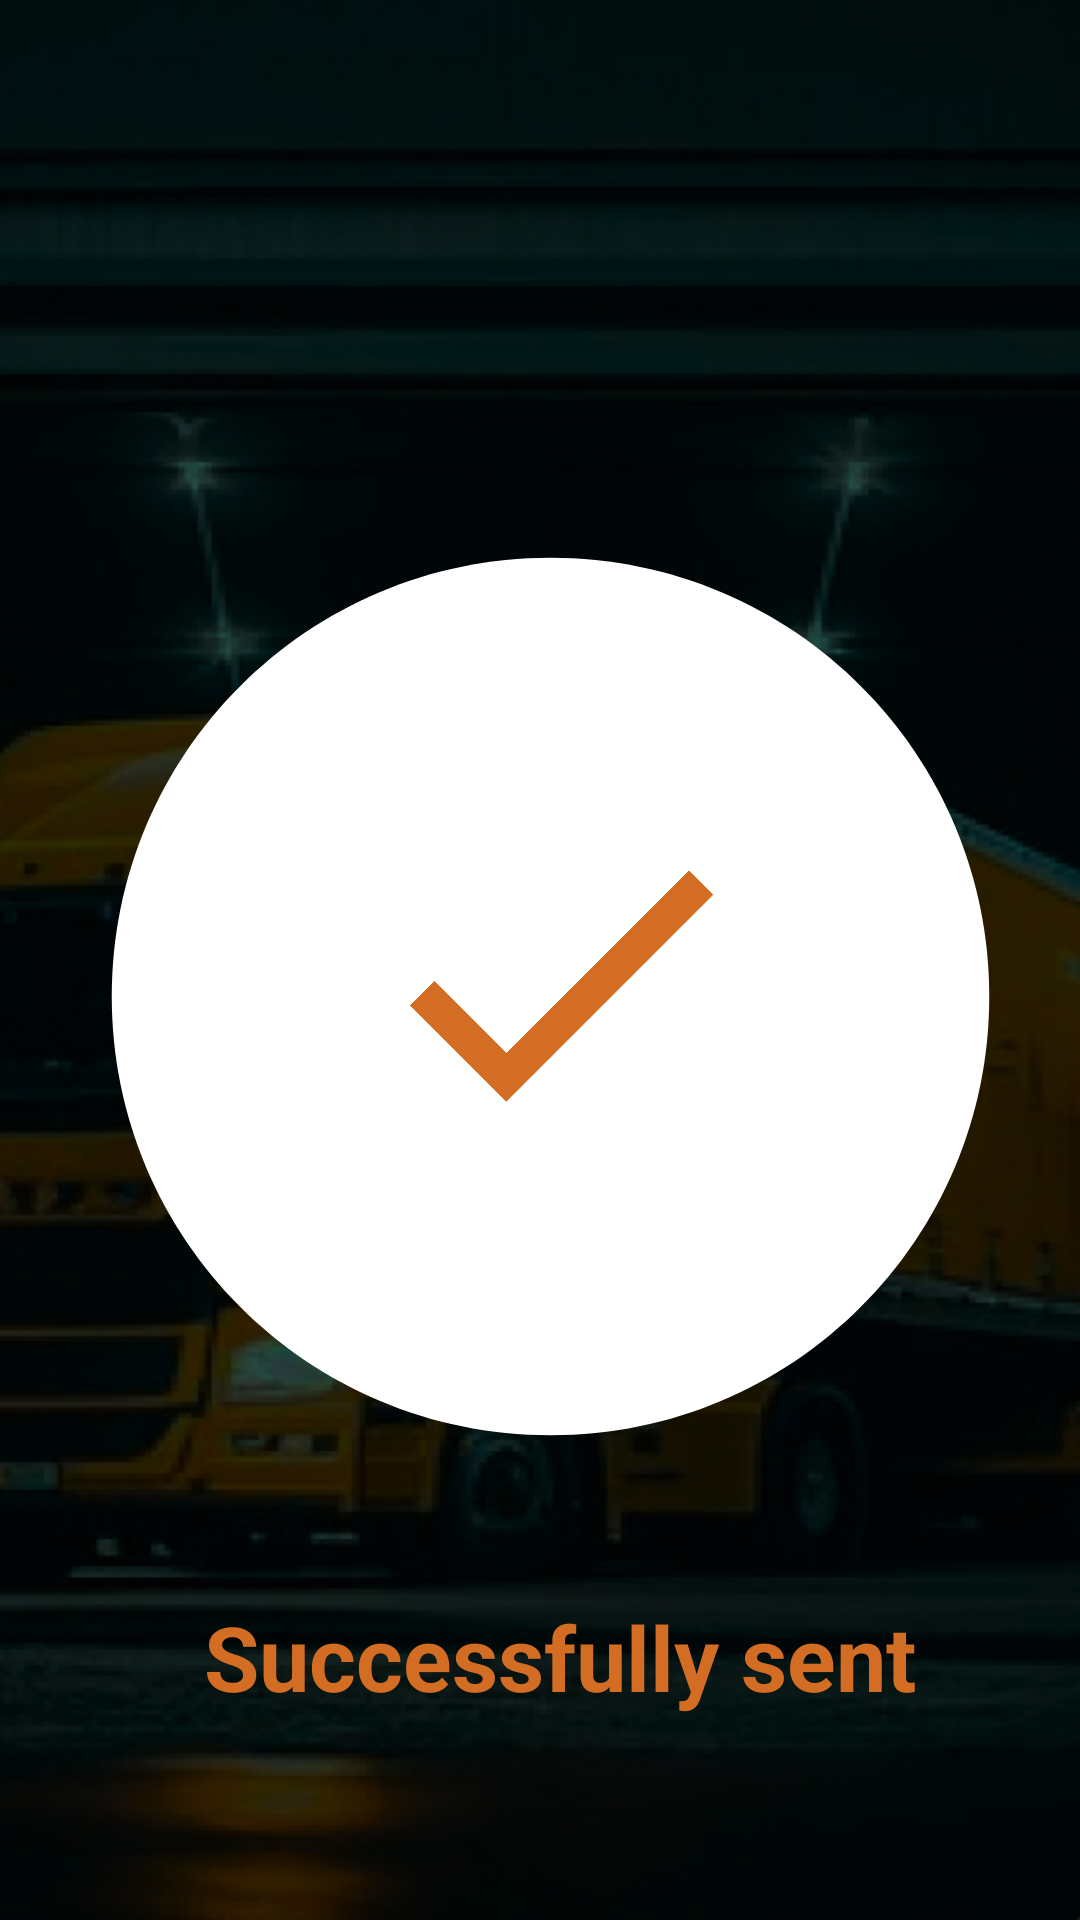

Named icons in this screenshot (1080px×1920px) and their bounding boxes, [x1=x1, y1=y1, x2=x2, y2=y2]:
check: [x1=410, y1=871, x2=713, y2=1102]
